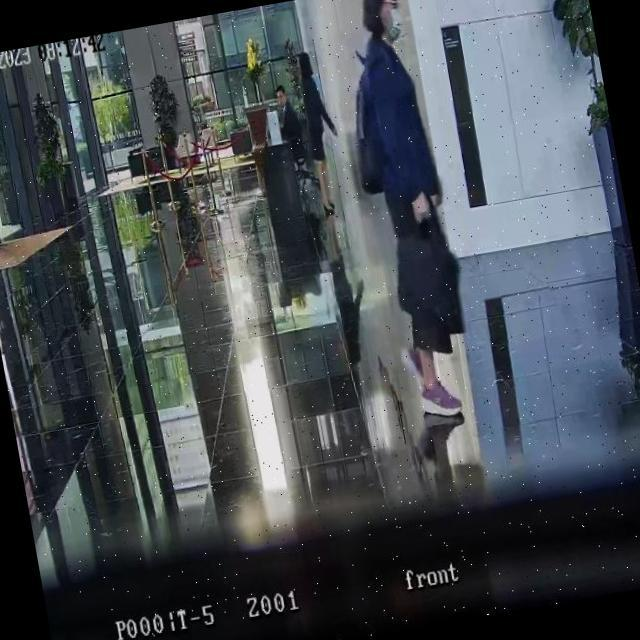person: (329, 0, 482, 425), (294, 48, 352, 216), (272, 82, 304, 153)
